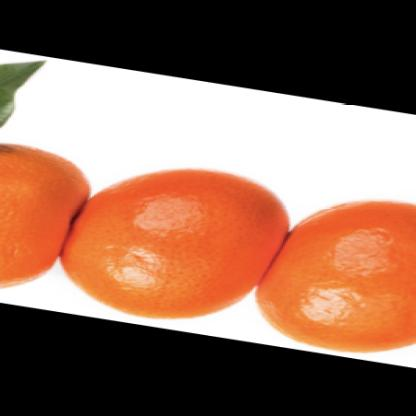fresh: (1, 141, 416, 354)
